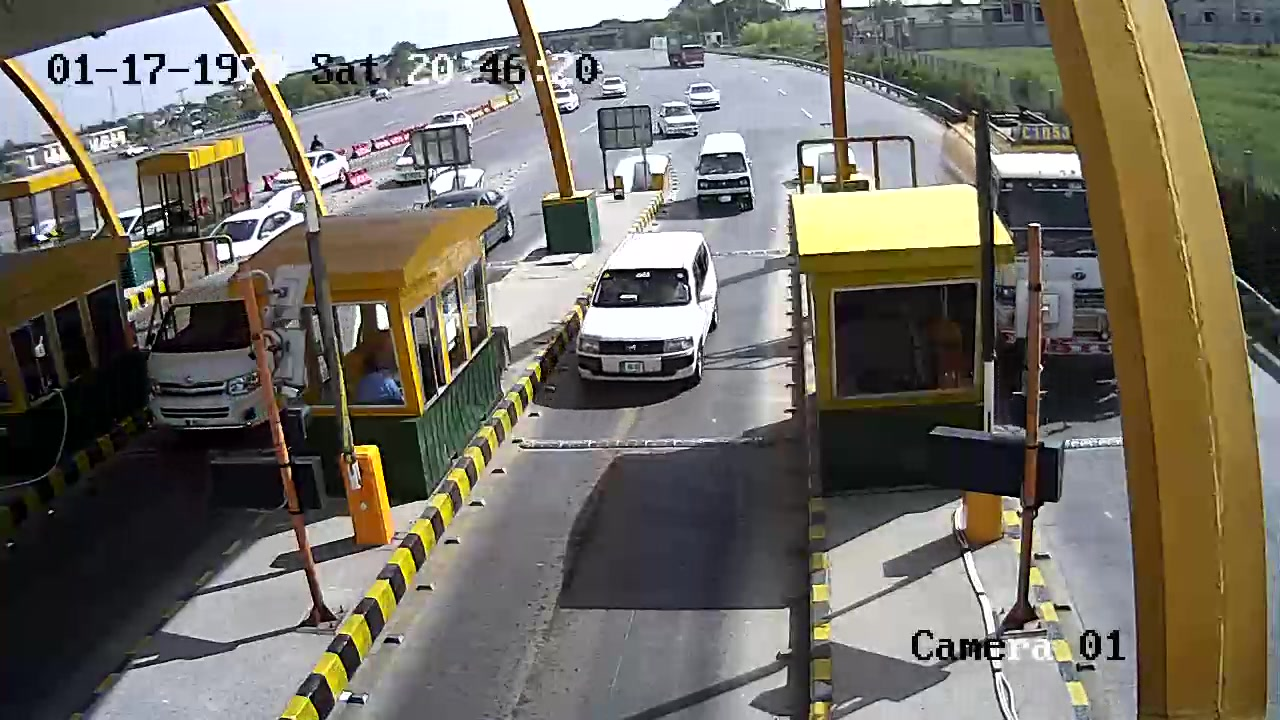F1: (574, 225, 727, 398)
